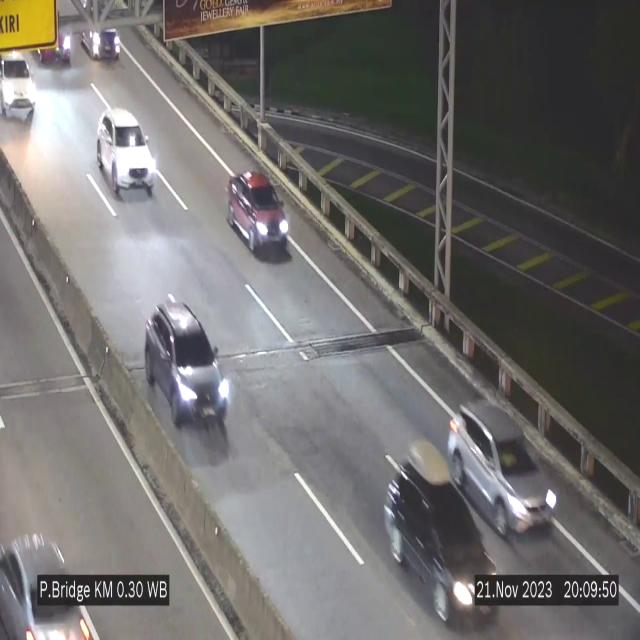Car: (379, 438, 497, 633), (449, 402, 555, 543), (0, 508, 94, 639), (145, 300, 231, 434), (227, 171, 290, 257), (98, 108, 156, 198), (0, 47, 45, 115), (78, 12, 126, 70), (40, 21, 74, 71)
